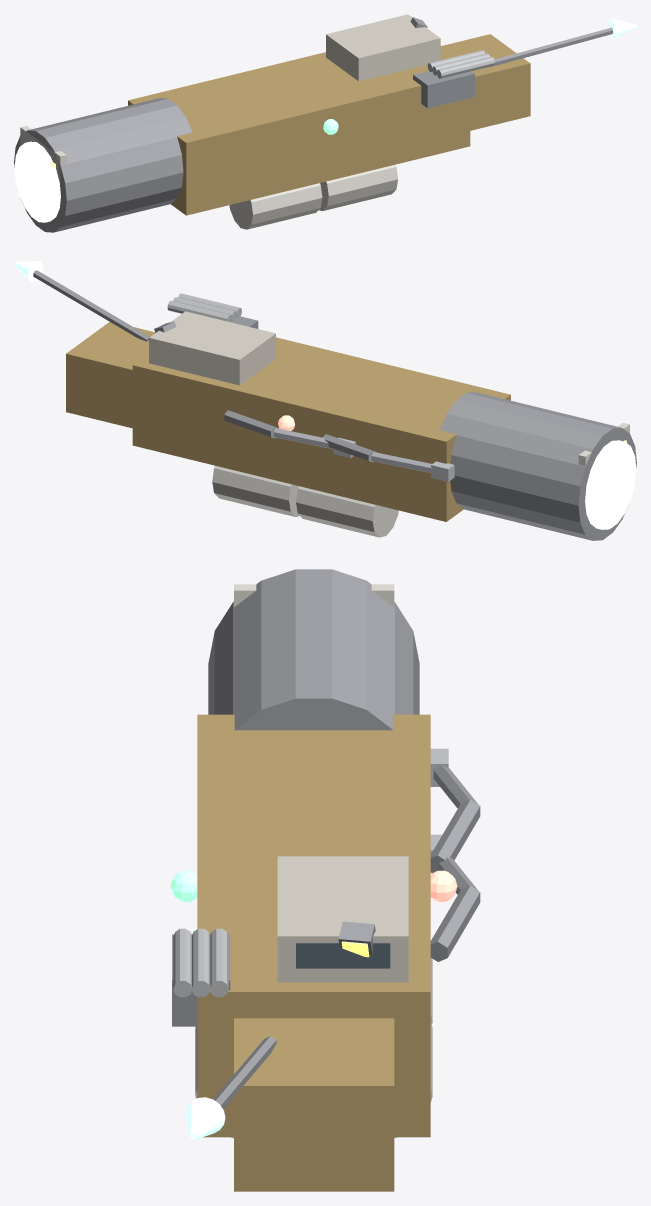
Rendered from prospector_skiff.glb.
The picture shows the model from 3 angles, top to bottom: view 1: azimuth 30°, elevation 25°; view 2: azimuth 150°, elevation 25°; view 3: azimuth 270°, elevation 25°; orthographic projection. The views are drawn at different scales.
Visible parts, largest first — view 1: psk_hull, psk_drive_shroud, psk_cab_pod, psk_nose, psk_drive_glow, psk_drum3, psk_drum2, psk_stake_base, psk_wand, psk_stake_t2, psk_chevron, psk_wand_tip; view 2: psk_hull, psk_drive_shroud, psk_cab_pod, psk_nose, psk_drive_glow, psk_drum1, psk_drum0, psk_wand, psk_arm0_a, psk_arm1_b, psk_arm1_a, psk_arm0_b (+3 smaller); view 3: psk_hull, psk_drive_shroud, psk_nose, psk_cab_pod, psk_cab_canopy, psk_arm0_a, psk_arm1_a, psk_wand_tip, psk_wand, psk_stake_t0, psk_stake_t1, psk_stake_t2 (+2 smaller).
Boxes of the visible parts, box(x1,y1,x2,y2) form: psk_hull: box(128, 52, 470, 215); psk_drive_shroud: box(14, 98, 192, 232); psk_cab_pod: box(326, 14, 440, 81); psk_nose: box(440, 34, 530, 130); psk_drive_glow: box(14, 141, 60, 222); psk_drum3: box(229, 183, 322, 229); psk_drum2: box(319, 164, 398, 210); psk_stake_base: box(413, 71, 474, 108); psk_wand: box(487, 27, 612, 67); psk_stake_t2: box(436, 56, 494, 78); psk_chevron: box(20, 126, 66, 185); psk_wand_tip: box(609, 19, 636, 38); psk_hull: box(132, 337, 510, 521); psk_drive_shroud: box(439, 392, 636, 540); psk_cab_pod: box(149, 311, 275, 385); psk_nose: box(66, 322, 155, 428); psk_drive_glow: box(585, 440, 636, 529); psk_drum1: box(296, 486, 398, 537); psk_drum0: box(212, 465, 299, 516); psk_wand: box(33, 270, 149, 341); psk_arm0_a: box(224, 410, 278, 438); psk_arm1_b: box(371, 452, 432, 472); psk_arm1_a: box(323, 434, 376, 462); psk_arm0_b: box(273, 428, 333, 449); psk_hull: box(197, 714, 430, 1137); psk_drive_shroud: box(208, 569, 419, 730); psk_nose: box(234, 1018, 394, 1191); psk_cab_pod: box(277, 856, 408, 982); psk_cab_canopy: box(296, 943, 390, 968); psk_arm0_a: box(430, 886, 480, 961); psk_arm1_a: box(430, 799, 480, 872); psk_wand_tip: box(186, 1097, 225, 1139); psk_wand: box(213, 1036, 276, 1109); psk_stake_t0: box(210, 928, 228, 997); psk_stake_t1: box(191, 928, 210, 997); psk_stake_t2: box(173, 928, 191, 997).
Bounding box in the file's own units: 18.12 × 4.16 × 4.25.
